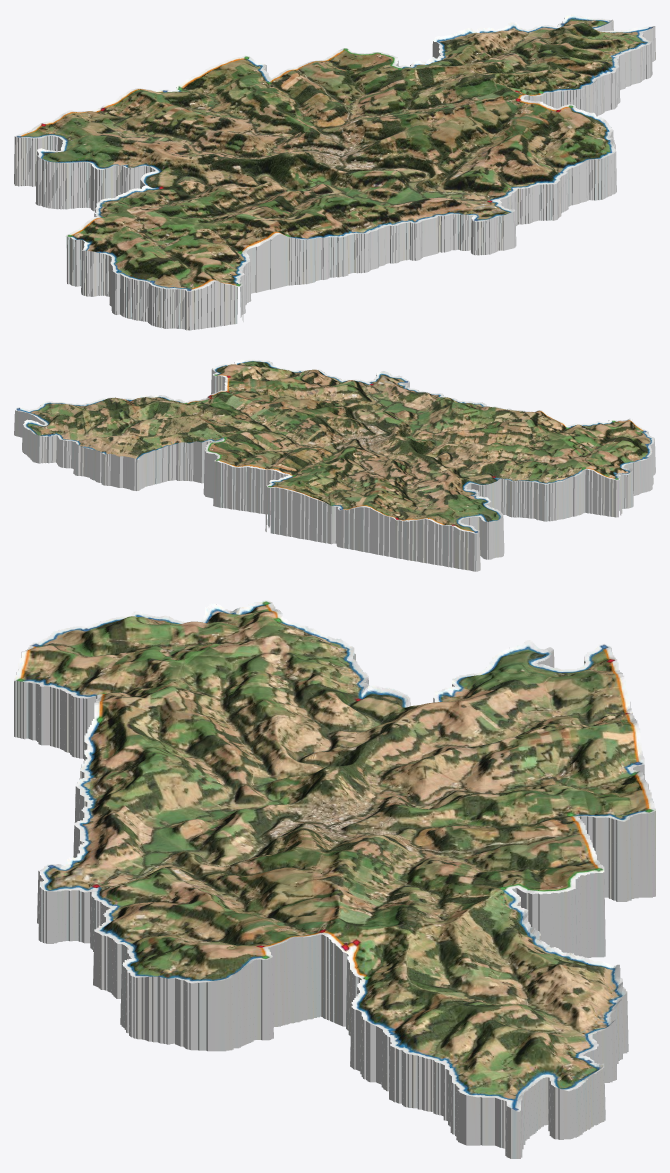
3 renders of one model, top to bottom at view 1: azimuth 30°, elevation 25°; view 2: azimuth 150°, elevation 25°; view 3: azimuth 270°, elevation 25°, orthographic. The views are drawn at different scales.
Size of the model in its own units: 1 by 0.0833 by 0.5543.
Materials: 1 (1 with a texture image).
